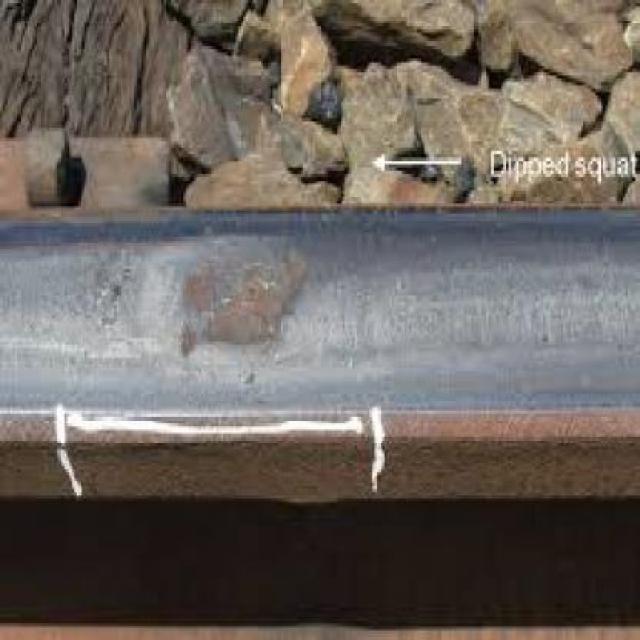defective: (114, 211, 336, 418)
